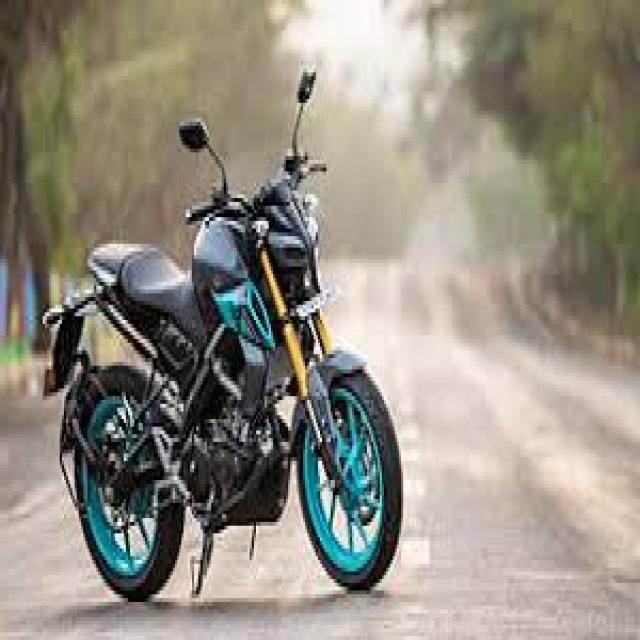bike: (43, 64, 402, 604)
